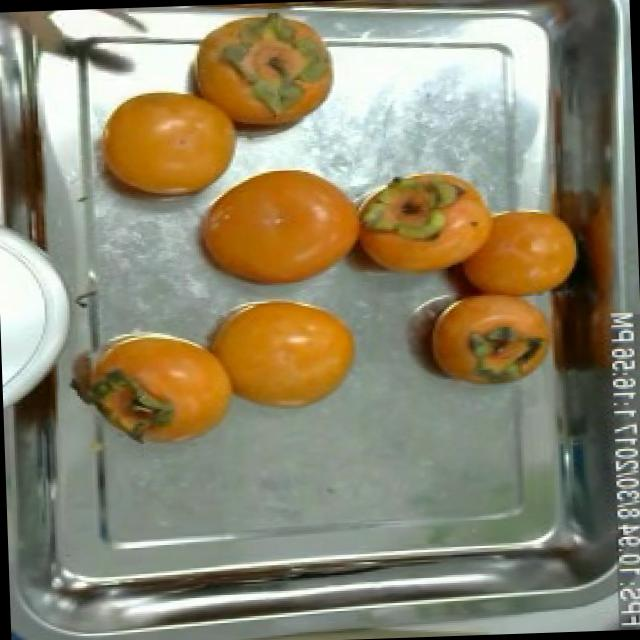Fruit: (175, 148, 374, 297), (73, 65, 254, 216), (64, 313, 248, 461), (162, 7, 348, 149), (192, 288, 368, 421), (405, 280, 558, 395), (344, 158, 504, 267), (472, 196, 590, 306)
